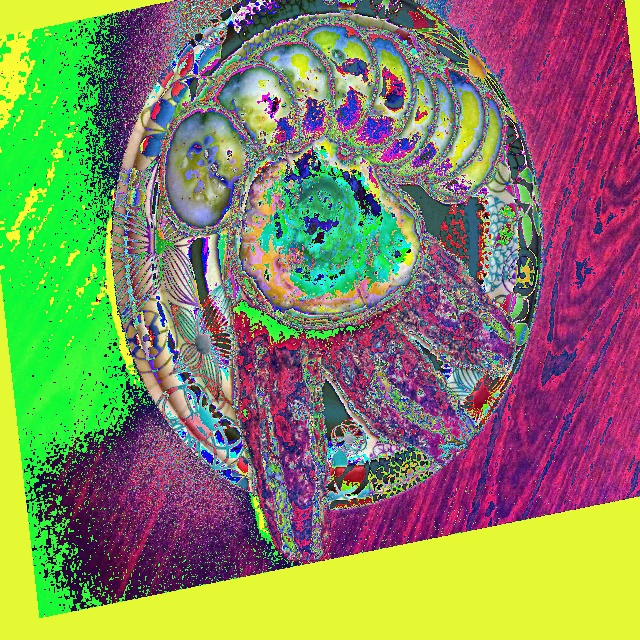background: (159, 18, 516, 562)
